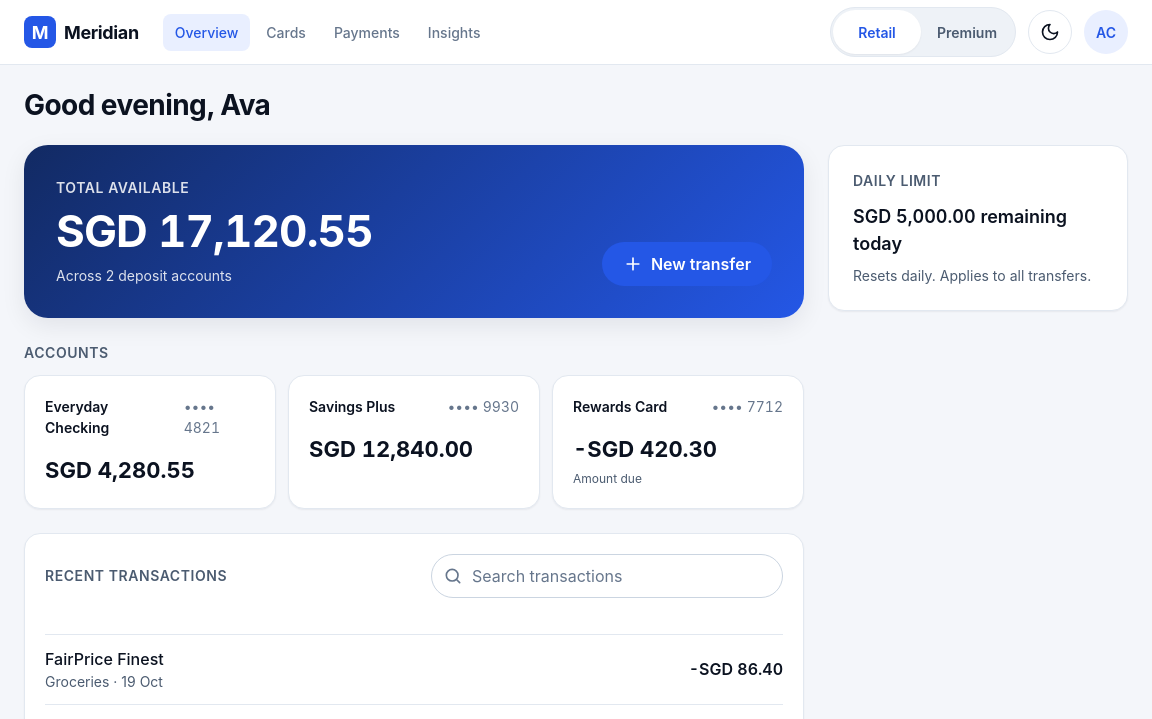
transfer dialog › opens on the recipient step and returns focus when closed
This screenshot has width=1152, height=719.
Click the button "New transfer" at (687, 264), box x1=602 y1=242 x2=772 y2=286
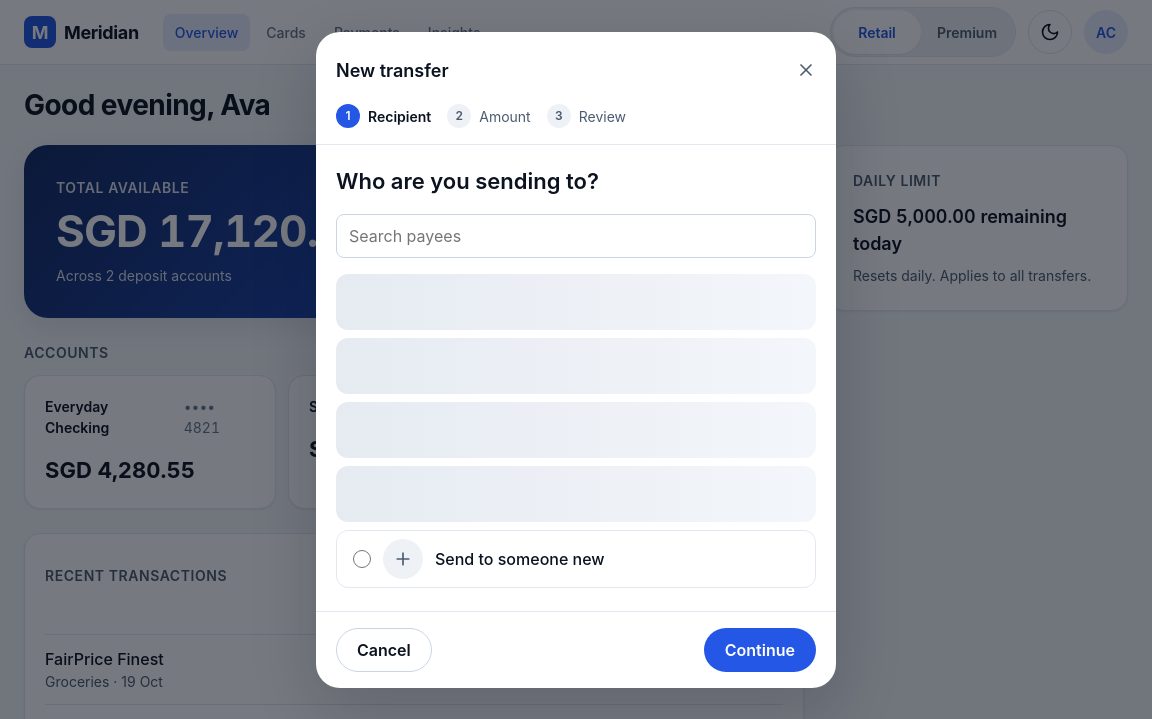
Click the button named "Close" at (806, 70), box x1=784 y1=48 x2=828 y2=92
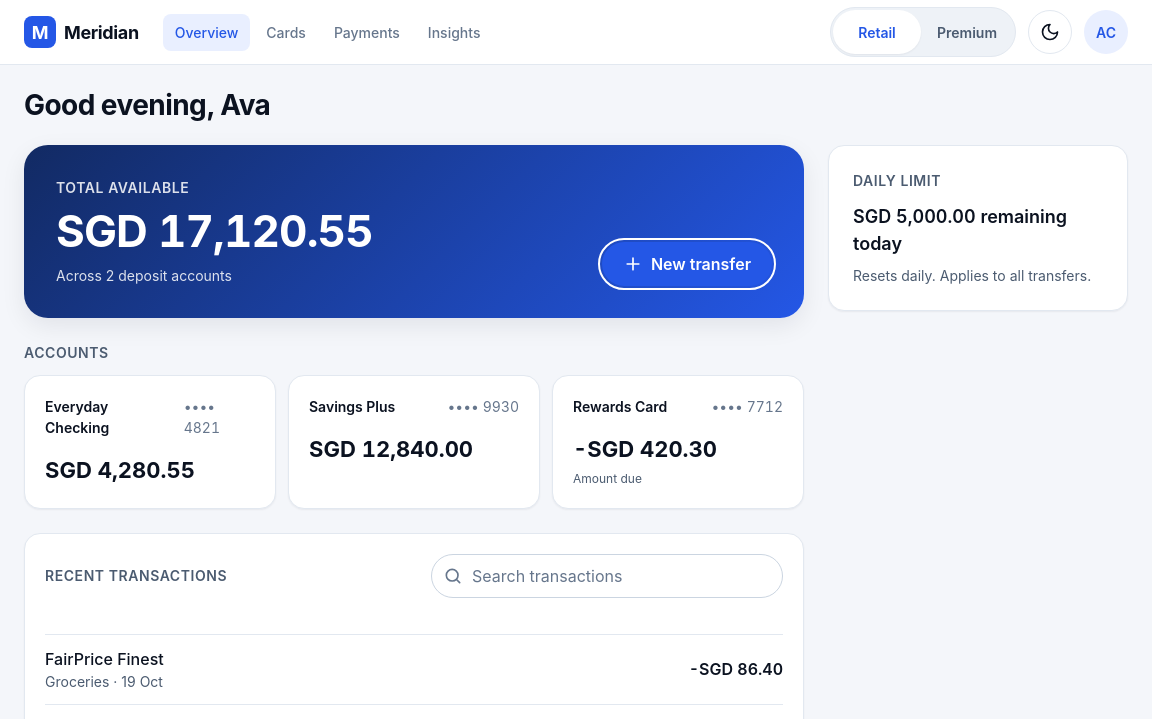
Result: the dialog is gone
